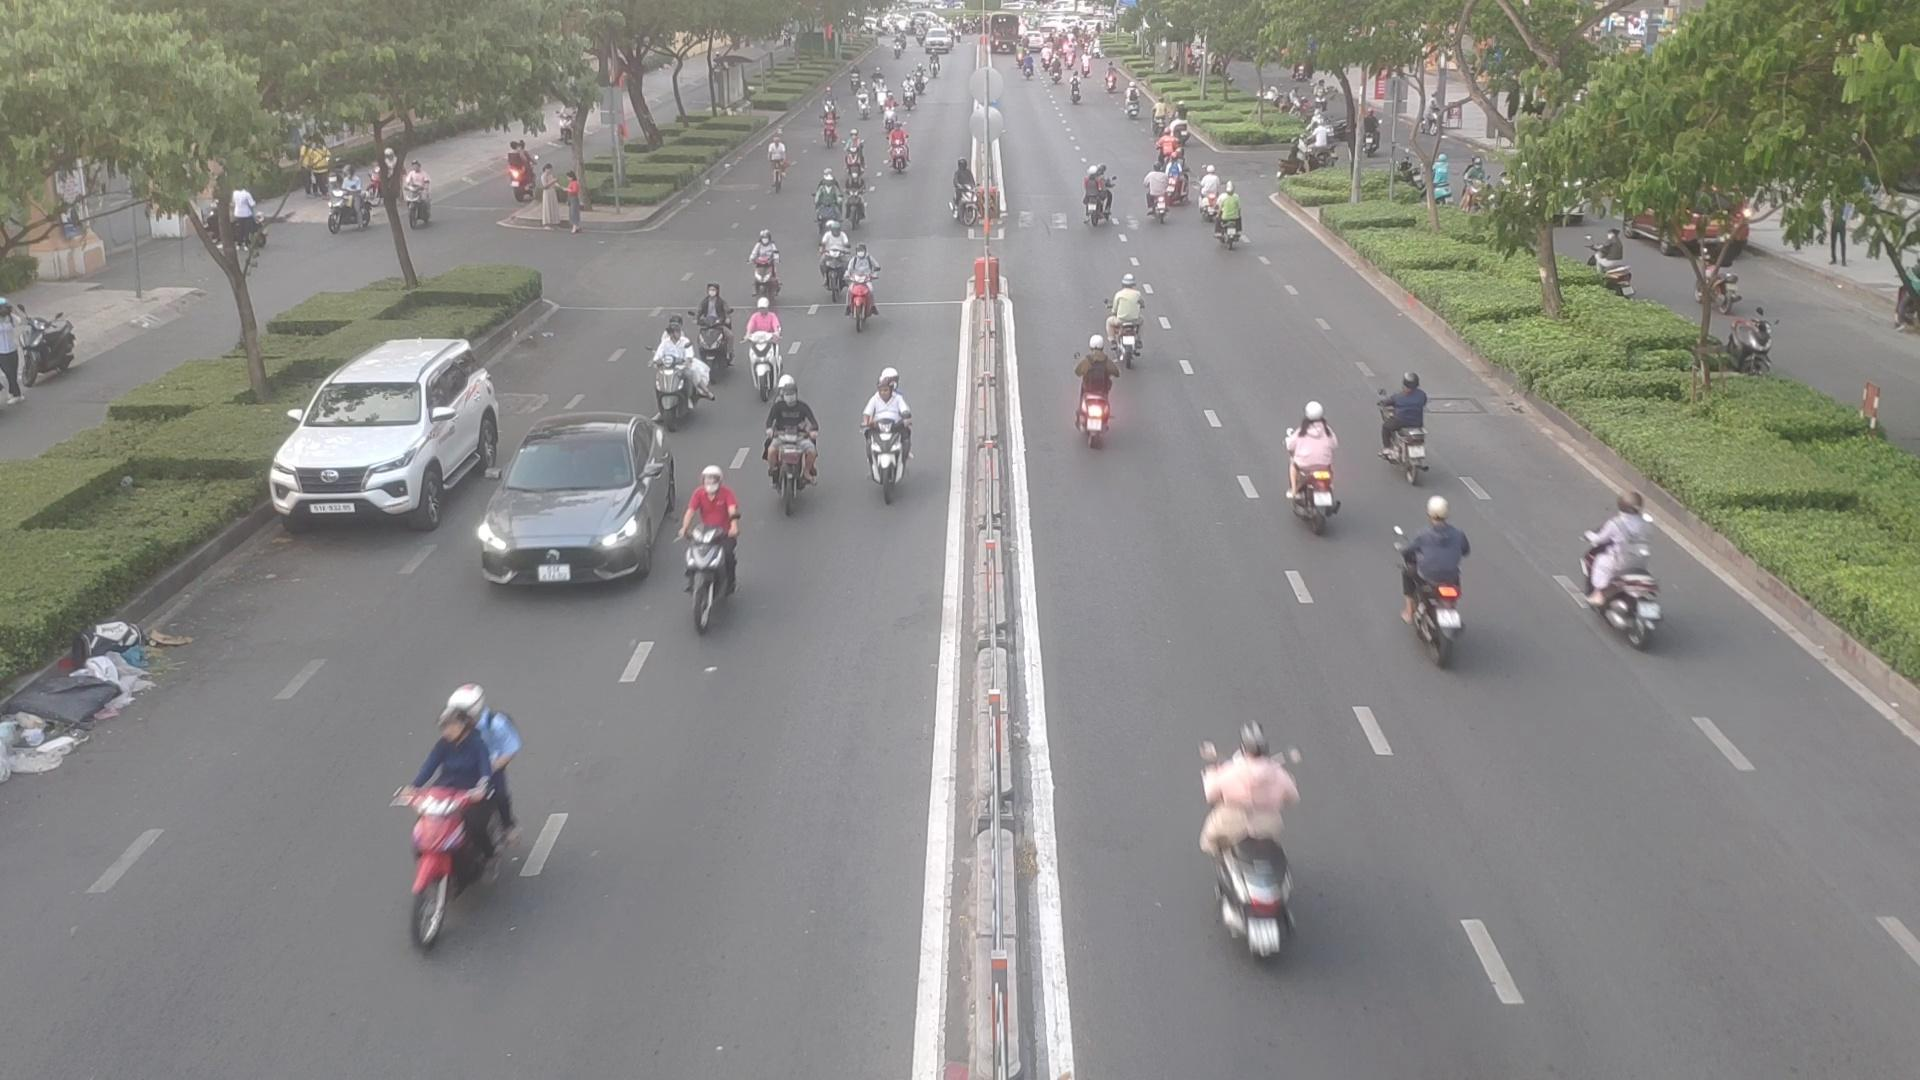car: (272, 339, 516, 531), (469, 422, 683, 592)
motorbike: (375, 684, 535, 949), (1196, 723, 1309, 949), (1586, 506, 1676, 645), (1396, 513, 1476, 665), (675, 455, 732, 617), (1273, 407, 1342, 527), (855, 371, 919, 498), (764, 389, 827, 508), (1064, 340, 1125, 451), (645, 328, 713, 421), (1379, 376, 1433, 475), (1100, 277, 1162, 363), (843, 239, 887, 342), (691, 286, 740, 367), (745, 294, 781, 404), (1211, 185, 1254, 252), (810, 173, 858, 232), (1075, 166, 1116, 228), (814, 220, 844, 291), (1146, 160, 1180, 222), (947, 160, 977, 228), (748, 237, 775, 302), (882, 127, 914, 174), (845, 167, 870, 225), (816, 108, 841, 152), (1168, 158, 1188, 207), (1197, 164, 1215, 216), (848, 127, 862, 179)
